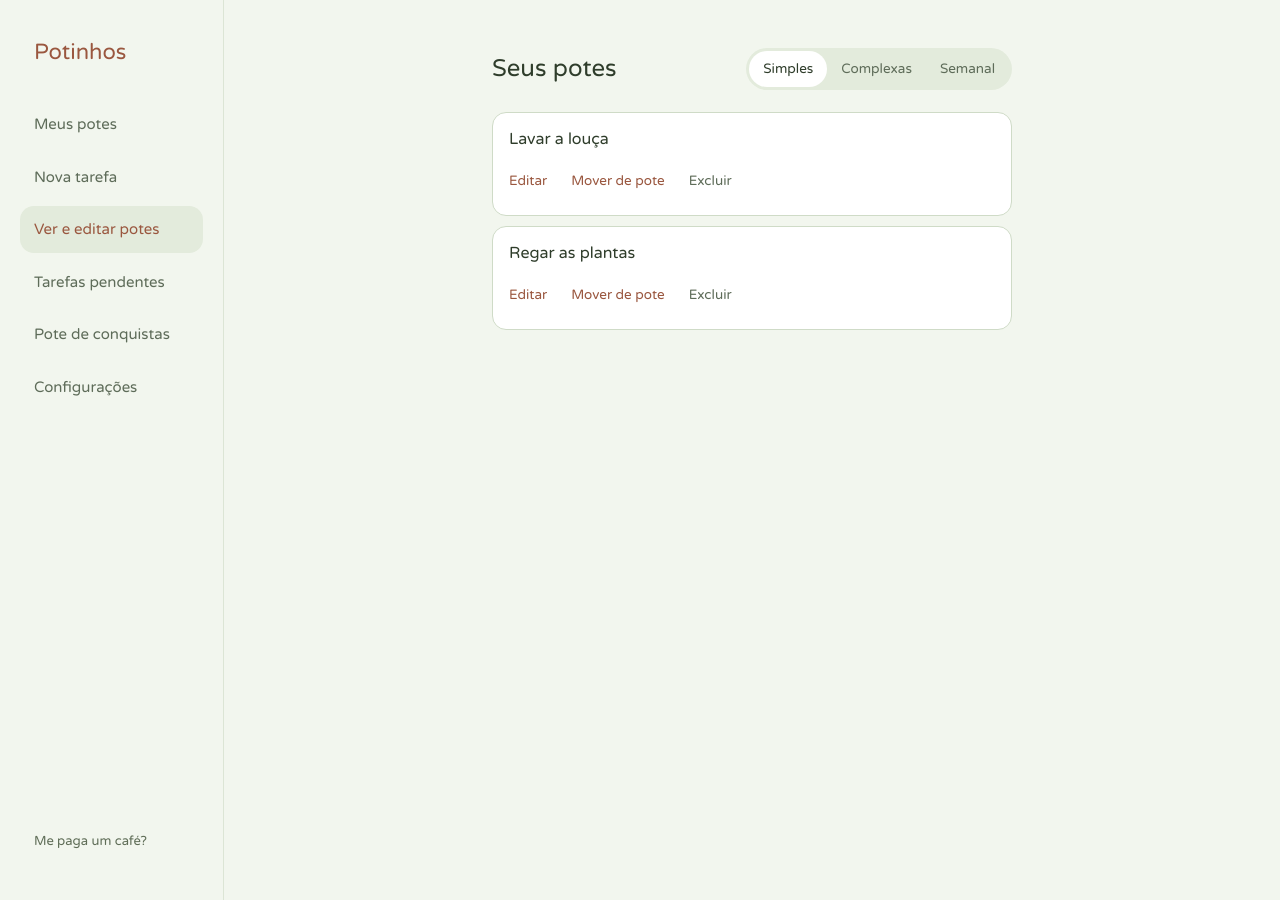
Test: Edit › edits the text inline
The image size is (1280, 900).
Check: the heading "Seus potes" is shown, box [492,51,616,87]
Click the button "Editar" below "Lavar a louça".
click(533, 181)  # box [509,161,557,201]
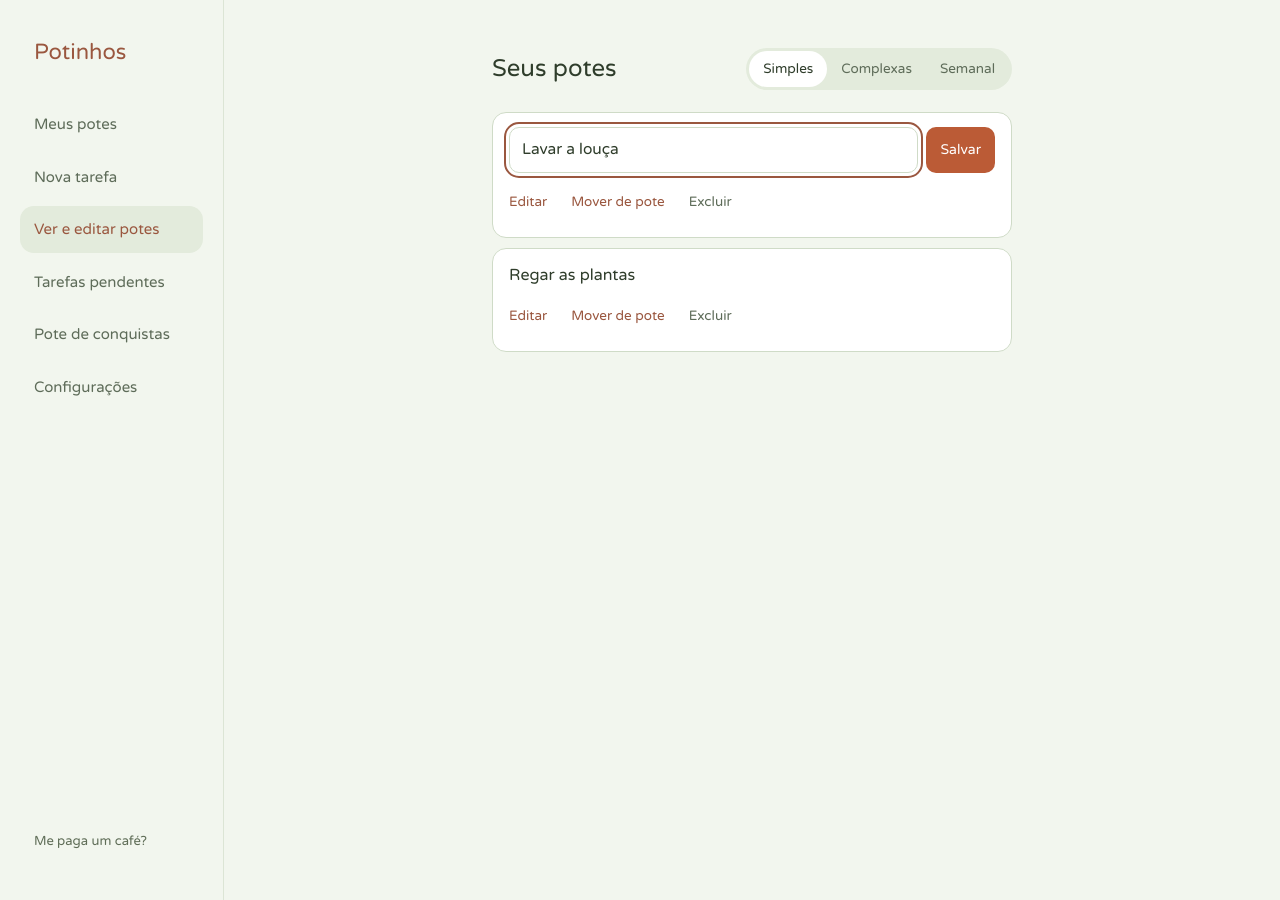
Replace the text in the field named "Texto da tarefa" with "Lavar a louça do almoço" at (714, 150), box [509,127,918,173]
Then press Enter
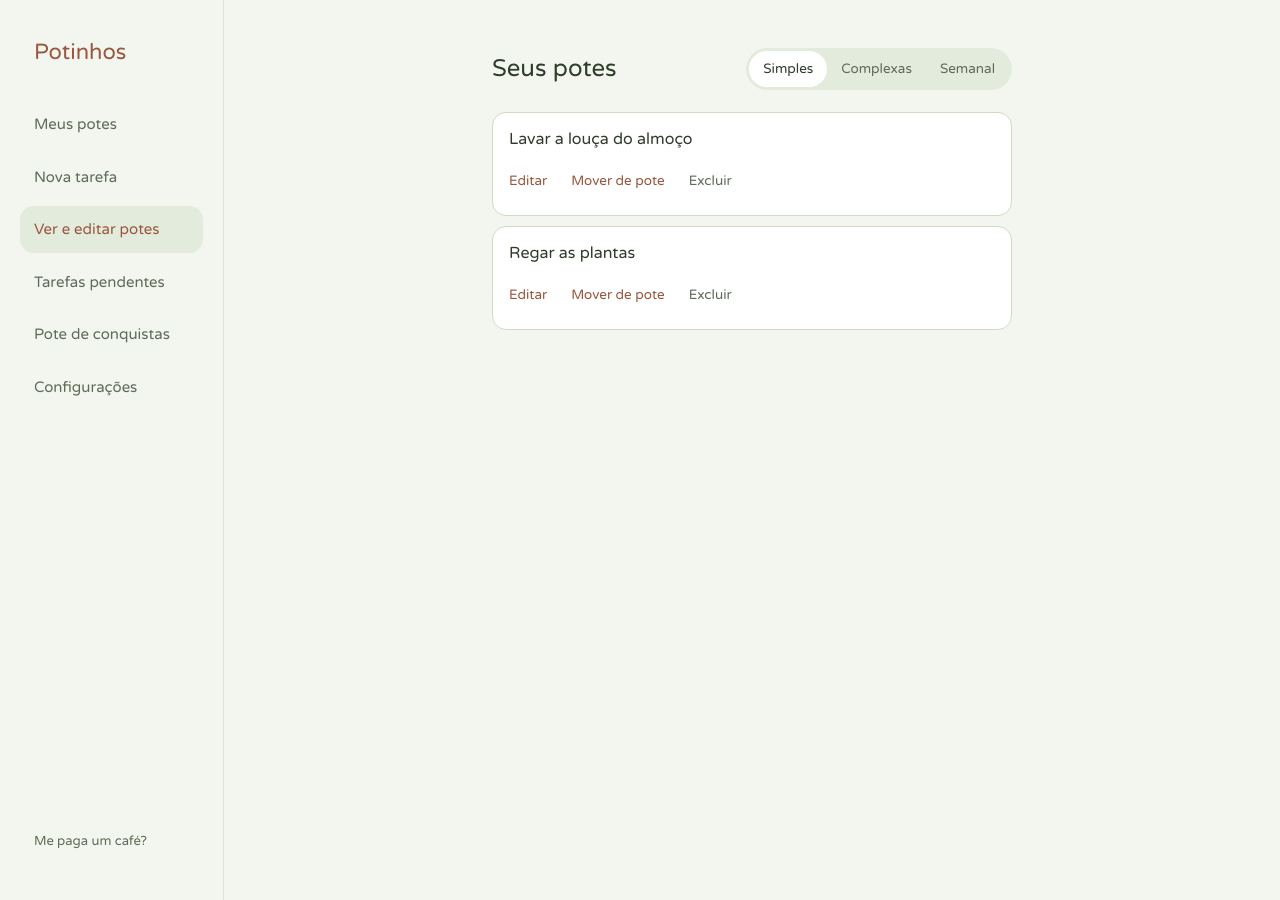
Check: the text "Lavar a louça do almoço" is shown, box [509,127,693,151]
Check: the field is gone
